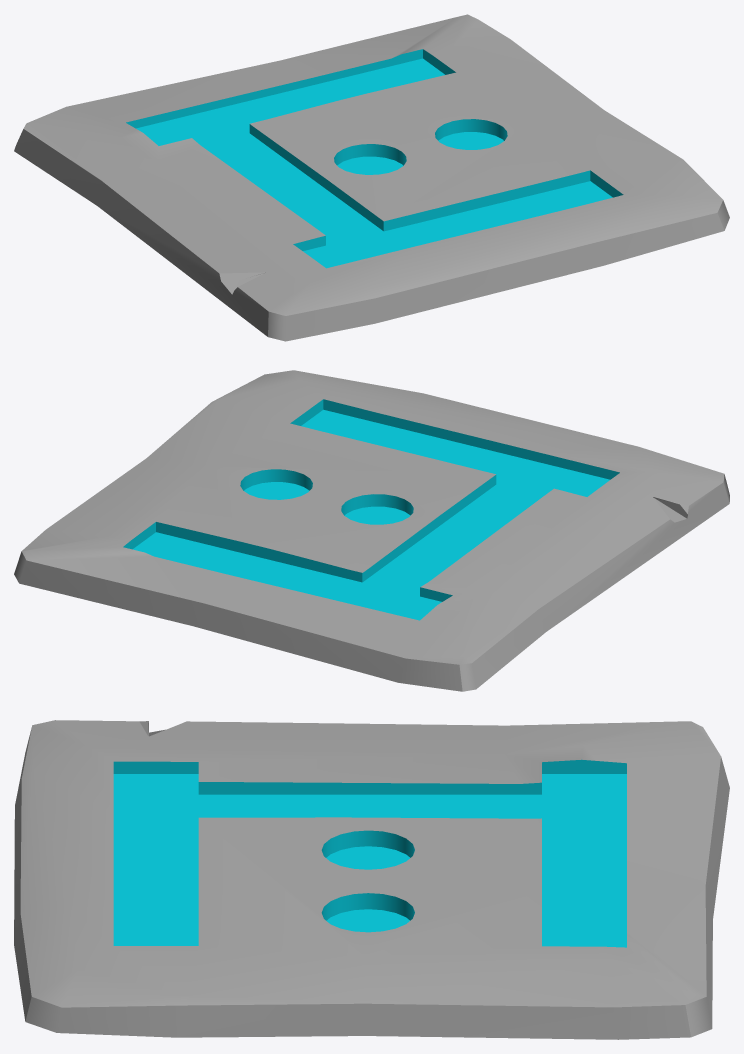
File: dalle17.fbx
The picture shows the model from 3 angles, top to bottom: view 1: azimuth 30°, elevation 25°; view 2: azimuth 150°, elevation 25°; view 3: azimuth 270°, elevation 25°; orthographic projection. The views are drawn at different scales.
Parts seen in each view (by area): view 1: pCube5; view 2: pCube5; view 3: pCube5.
Boxes of the visible parts, left/top/right/bottom form: pCube5: left=14, top=14, right=729, bottom=341; pCube5: left=14, top=370, right=729, bottom=691; pCube5: left=14, top=720, right=729, bottom=1039.
Bounding box in the file's own units: 6.99 × 0.4395 × 7.18.
